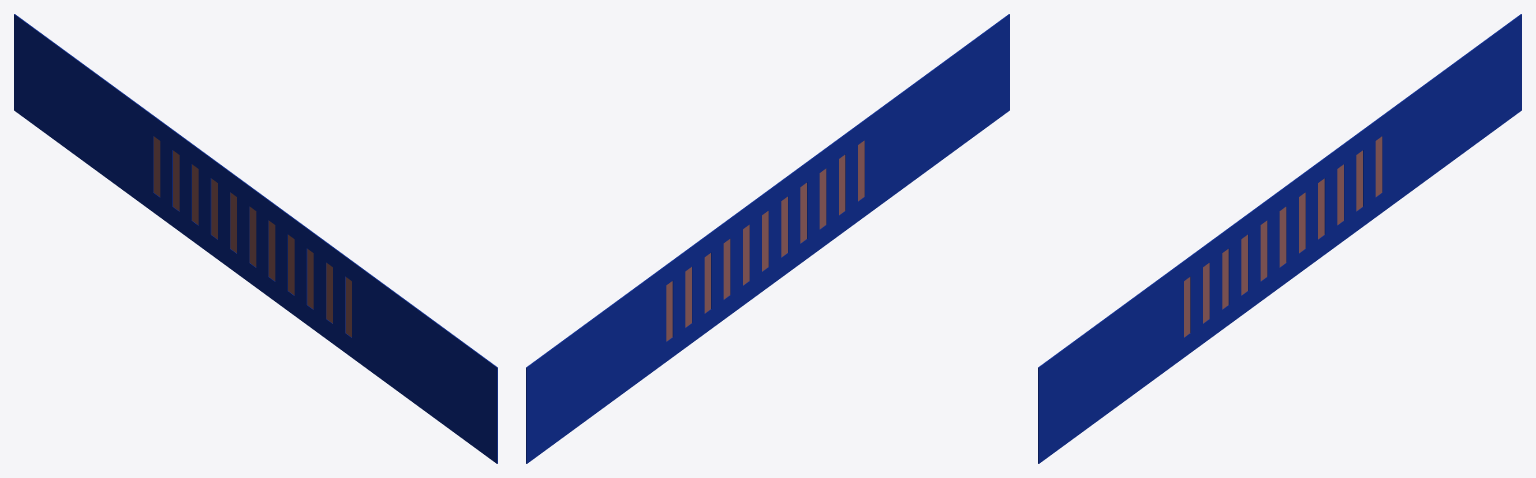
File: 10x90 rails.FBX
The picture shows the model from 3 angles, left to right: view 1: azimuth 30°, elevation 25°; view 2: azimuth 150°, elevation 25°; view 3: azimuth 330°, elevation 25°; orthographic projection.
Visible parts, largest first — view 1: Med Wall 10 Windows002; view 2: Med Wall 10 Windows002; view 3: Med Wall 10 Windows002.
Boxes of the visible parts, left/top/right/bottom form: Med Wall 10 Windows002: left=14, top=14, right=497, bottom=463; Med Wall 10 Windows002: left=526, top=14, right=1009, bottom=463; Med Wall 10 Windows002: left=1038, top=14, right=1521, bottom=463.
Size of the model in its own units: 0.1 by 10 by 90.94.
